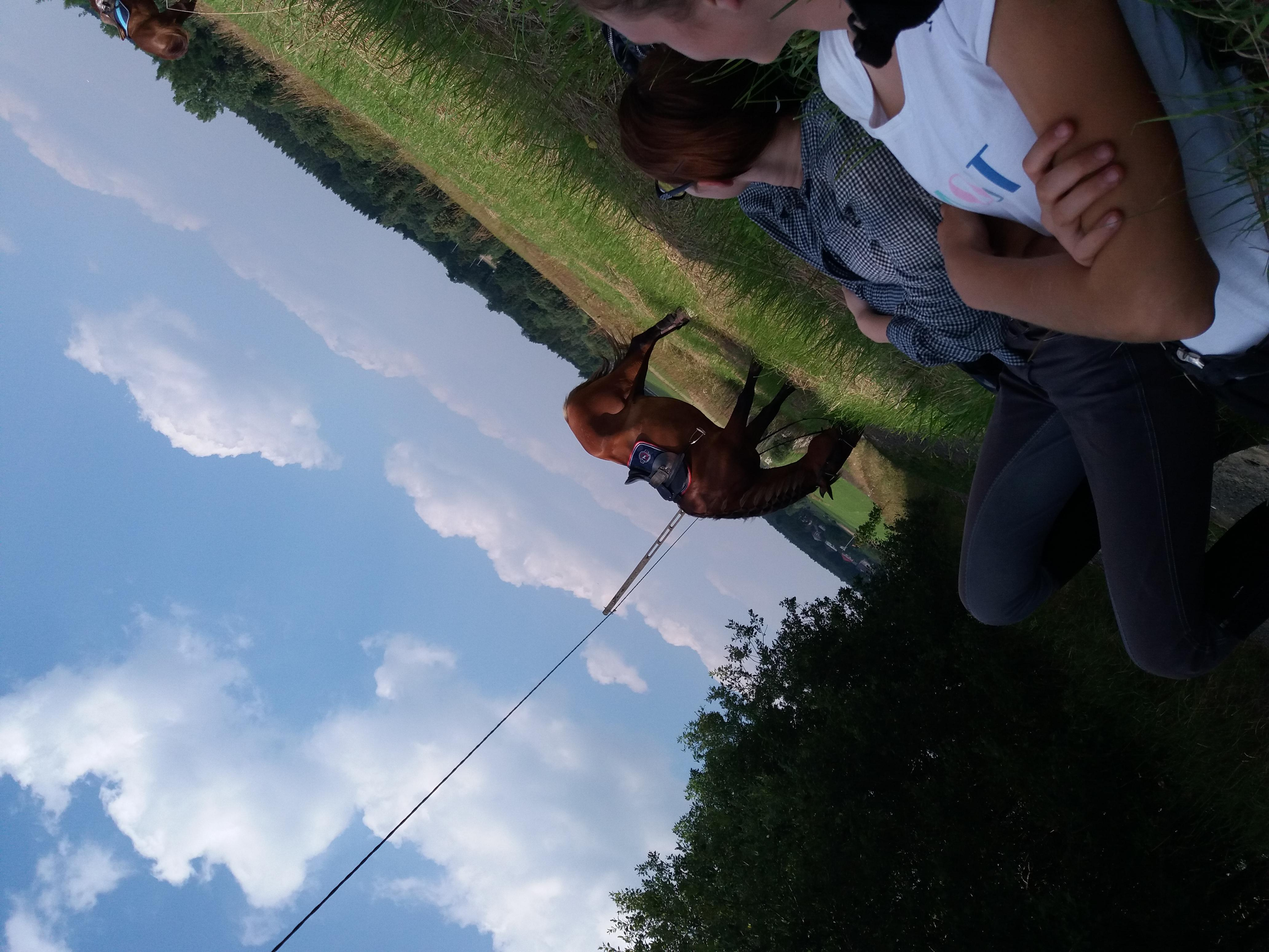horse: (563, 305, 864, 521)
